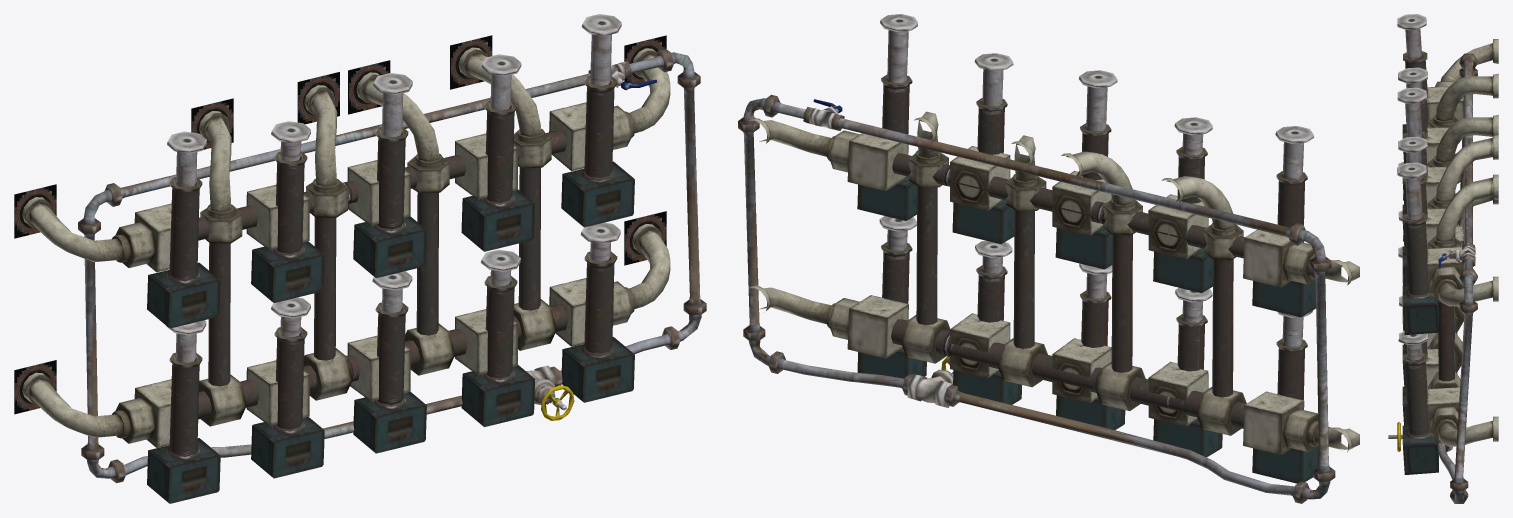
Rendered from submarine_greeble_300x200_05_curved.glb.
3 views of the same model, side by side, from view 1: azimuth 30°, elevation 25°; view 2: azimuth 150°, elevation 25°; view 3: azimuth 270°, elevation 25° (orthographic). The views are drawn at different scales.
Visible parts, largest first — view 1: submarine_greeble_300x200_05_curved_LOD0; view 2: submarine_greeble_300x200_05_curved_LOD0; view 3: submarine_greeble_300x200_05_curved_LOD0.
Part boxes in pixels (x1,y1,x2,y2): submarine_greeble_300x200_05_curved_LOD0: [14, 14, 706, 503]; submarine_greeble_300x200_05_curved_LOD0: [738, 14, 1359, 503]; submarine_greeble_300x200_05_curved_LOD0: [1388, 14, 1498, 503].
Size of the model in its own units: 2.93 by 1.6 by 0.5291.
Materials: 2 (2 with a texture image).
